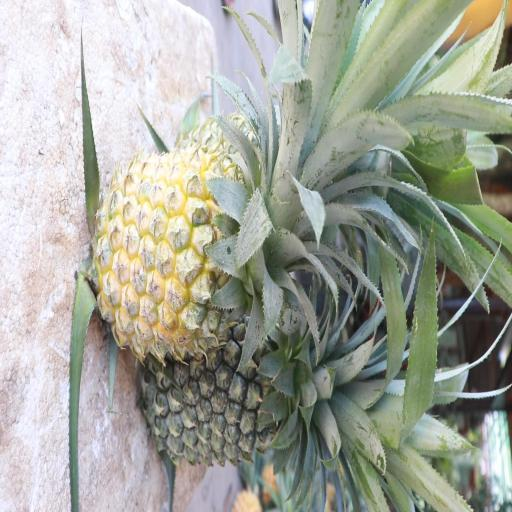Pineapple - v8 v1: (100, 154, 298, 356)
